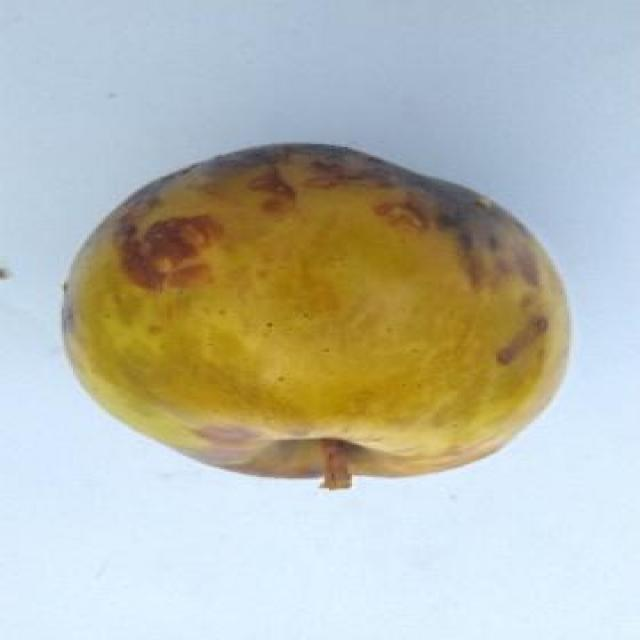Rotten: (57, 139, 569, 488)
